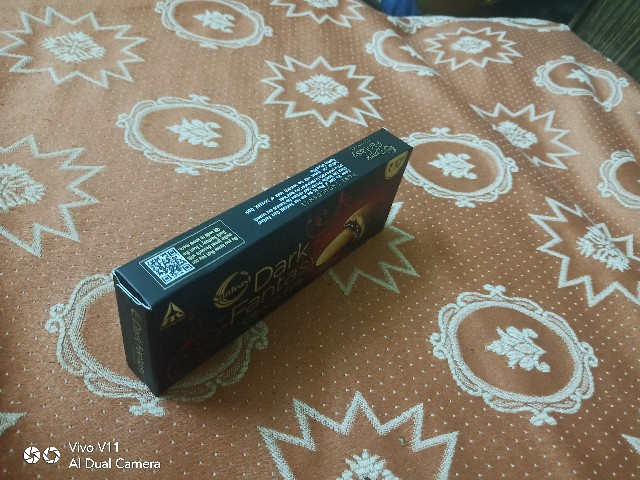darkfantasy small: (111, 119, 418, 420)
